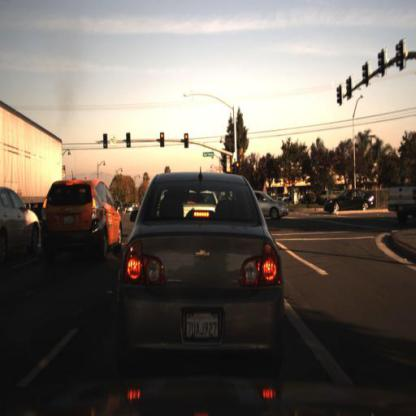car: (120, 172, 281, 372), (40, 175, 122, 263), (0, 184, 41, 263), (322, 185, 378, 213), (259, 182, 289, 222), (252, 189, 289, 220)
trafficLight-GreenLeft: (102, 129, 110, 150), (124, 130, 132, 151)
trafficLight-Red: (159, 129, 167, 148), (182, 132, 190, 151), (234, 160, 241, 178)
truck: (0, 89, 64, 205), (0, 96, 66, 203)
